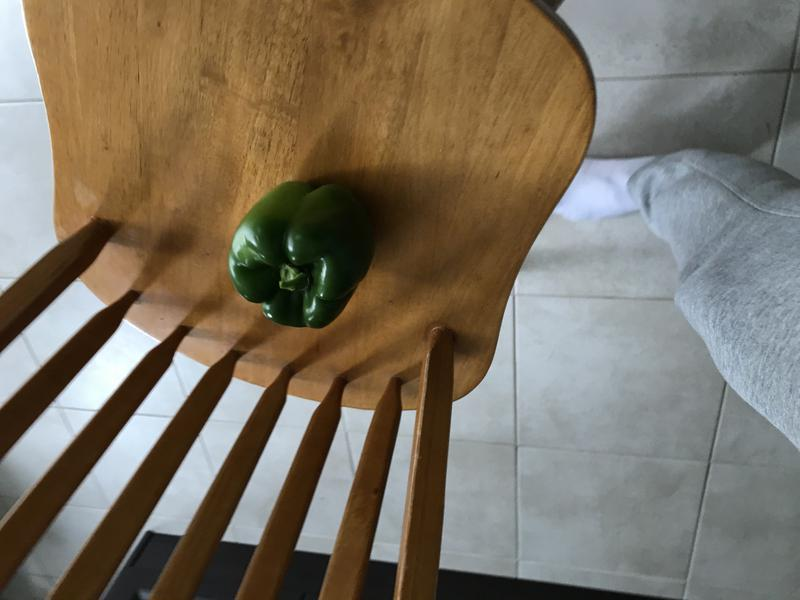green_pepper: (221, 172, 383, 342)
